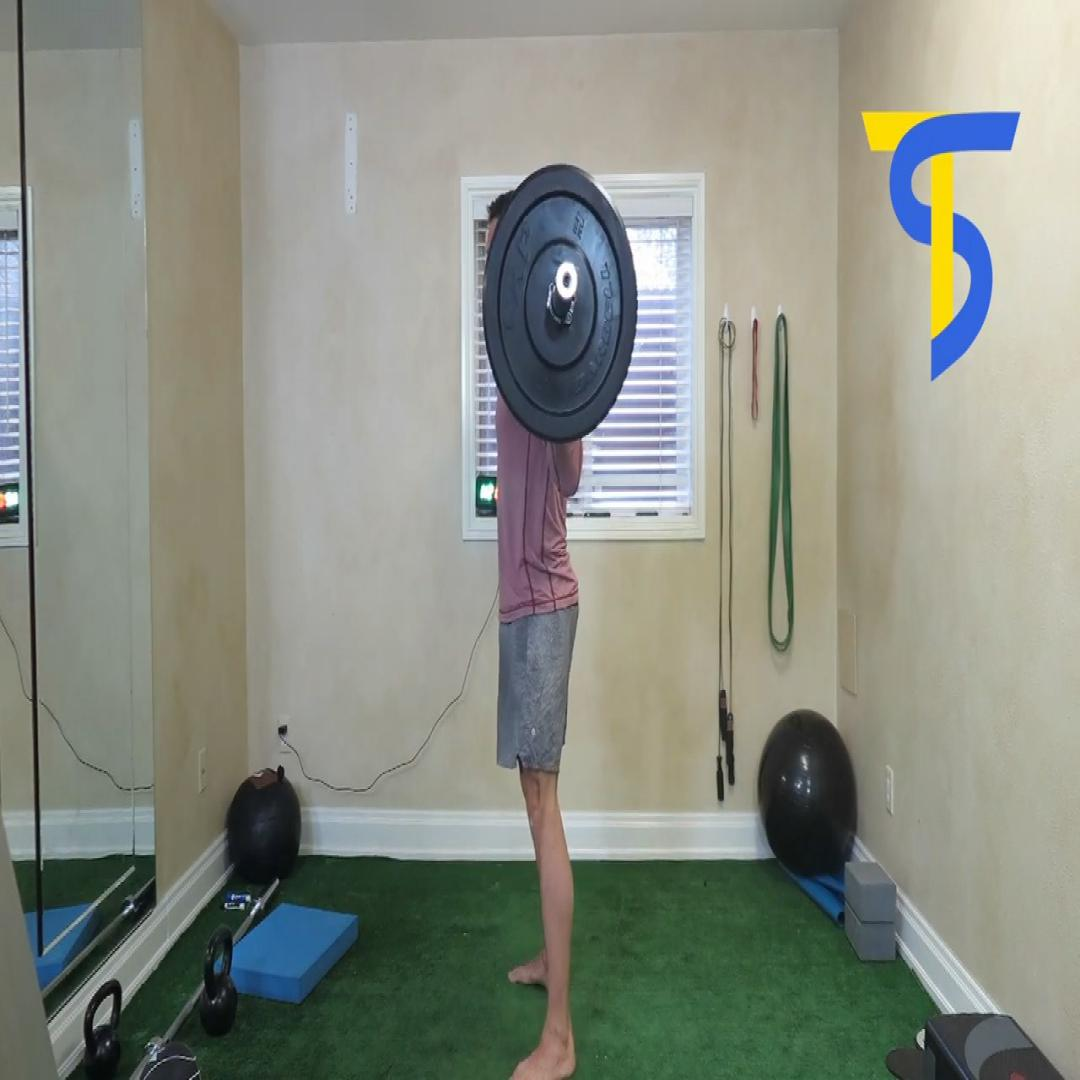Bar: (556, 261, 578, 300)
Barbell: (483, 162, 637, 442)
